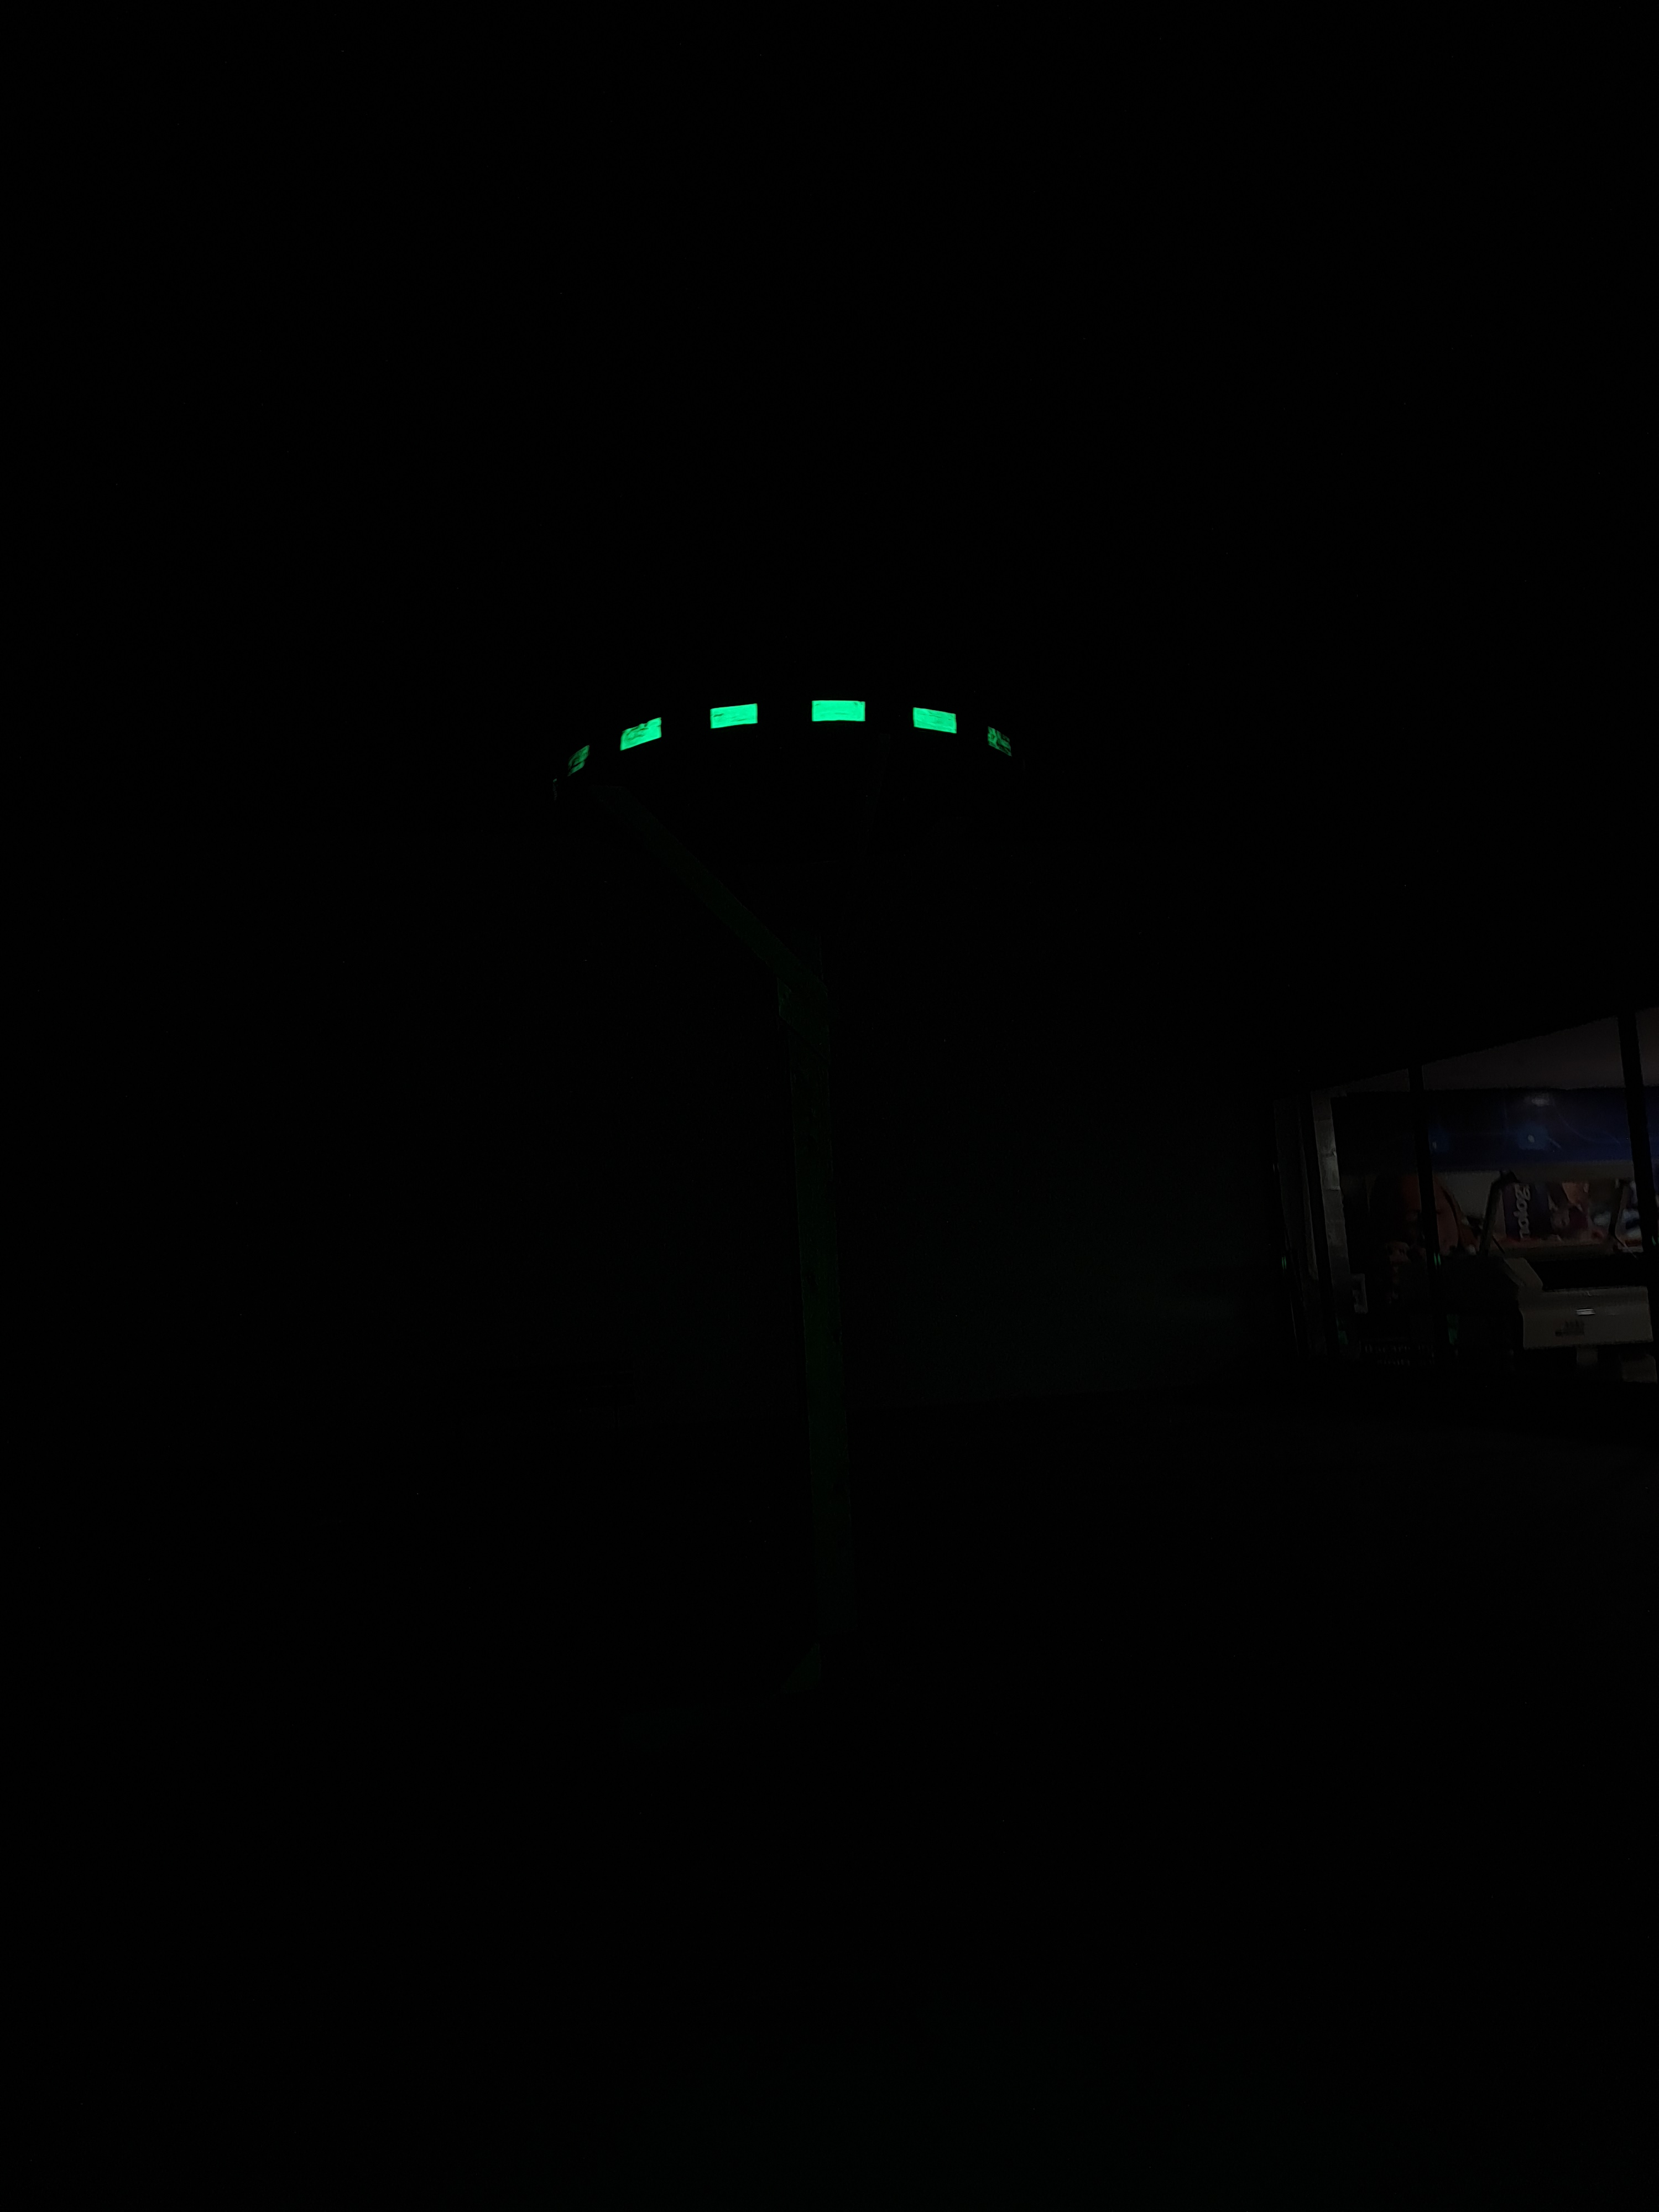hoop: (518, 685, 1046, 787)
